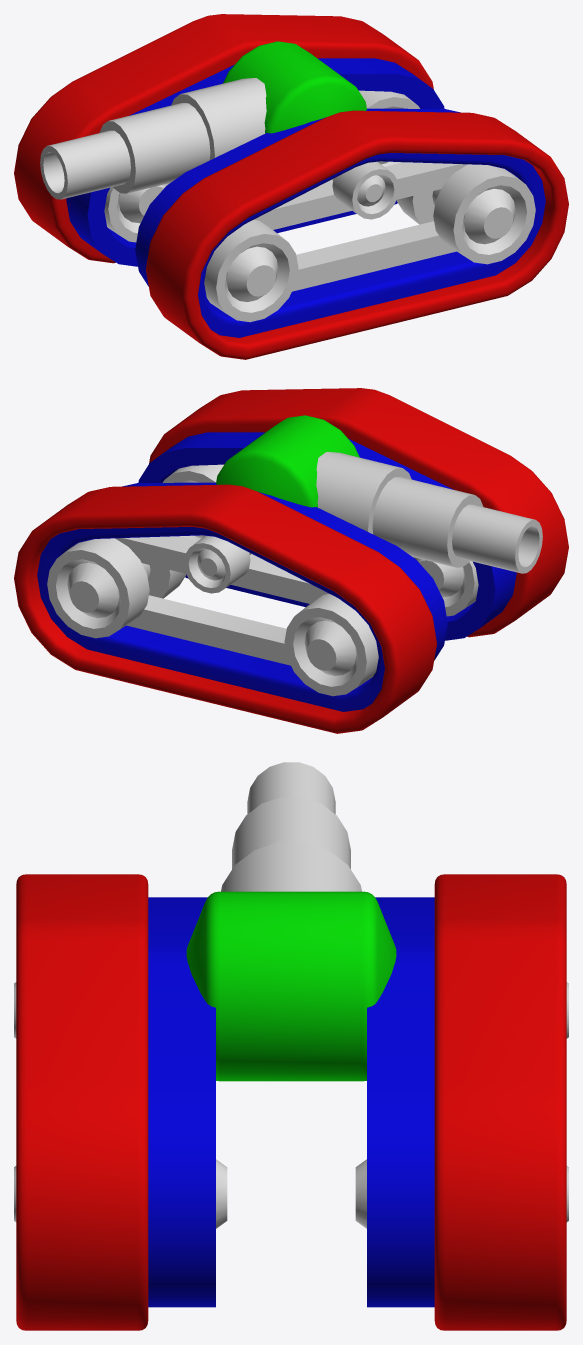
File: Tank.fbx
3 renders of one model, top to bottom at view 1: azimuth 30°, elevation 25°; view 2: azimuth 150°, elevation 25°; view 3: azimuth 270°, elevation 25°, orthographic. The views are drawn at different scales.
Parts seen in each view (by area): view 1: Tank, Barrel Middle, Barrel Tip, Barrel Base; view 2: Tank, Barrel Middle, Barrel Tip, Barrel Base; view 3: Tank, Barrel Base, Barrel Middle, Barrel Tip.
Part boxes in pixels (box(x1,y1,x2,y2)): Tank: box(14, 14, 568, 359); Barrel Middle: box(99, 103, 210, 193); Barrel Tip: box(40, 130, 130, 199); Barrel Base: box(171, 78, 266, 159); Tank: box(14, 388, 568, 733); Barrel Middle: box(372, 477, 483, 567); Barrel Tip: box(452, 504, 542, 573); Barrel Base: box(316, 452, 411, 533); Tank: box(14, 874, 568, 1330); Barrel Base: box(221, 842, 361, 891); Barrel Middle: box(232, 797, 350, 868); Barrel Tip: box(247, 762, 335, 814).
Bounding box in the file's own units: 56.38 × 25.66 × 39.7.
